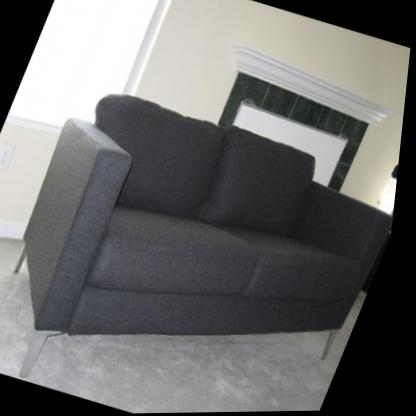Sofa: (0, 71, 410, 416)
